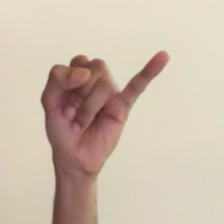J: (23, 30, 177, 184)
